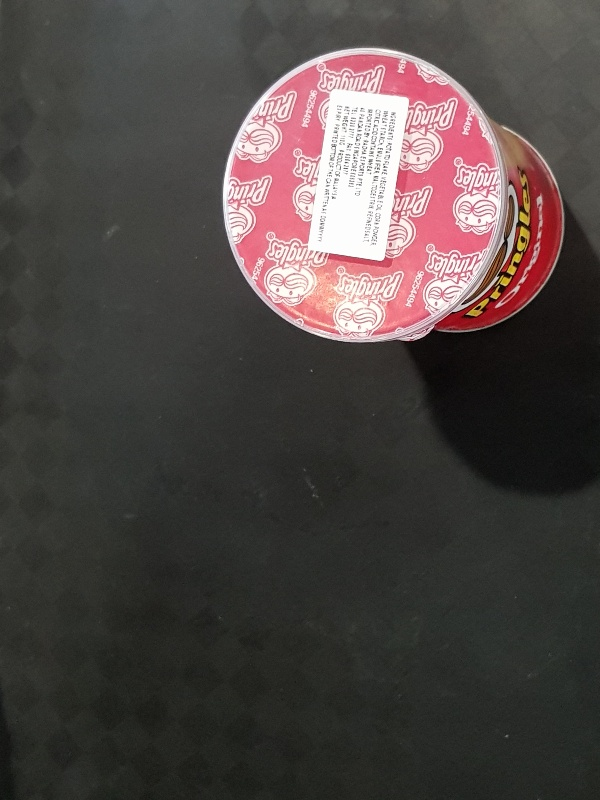Pringles Original: (216, 44, 566, 347)
